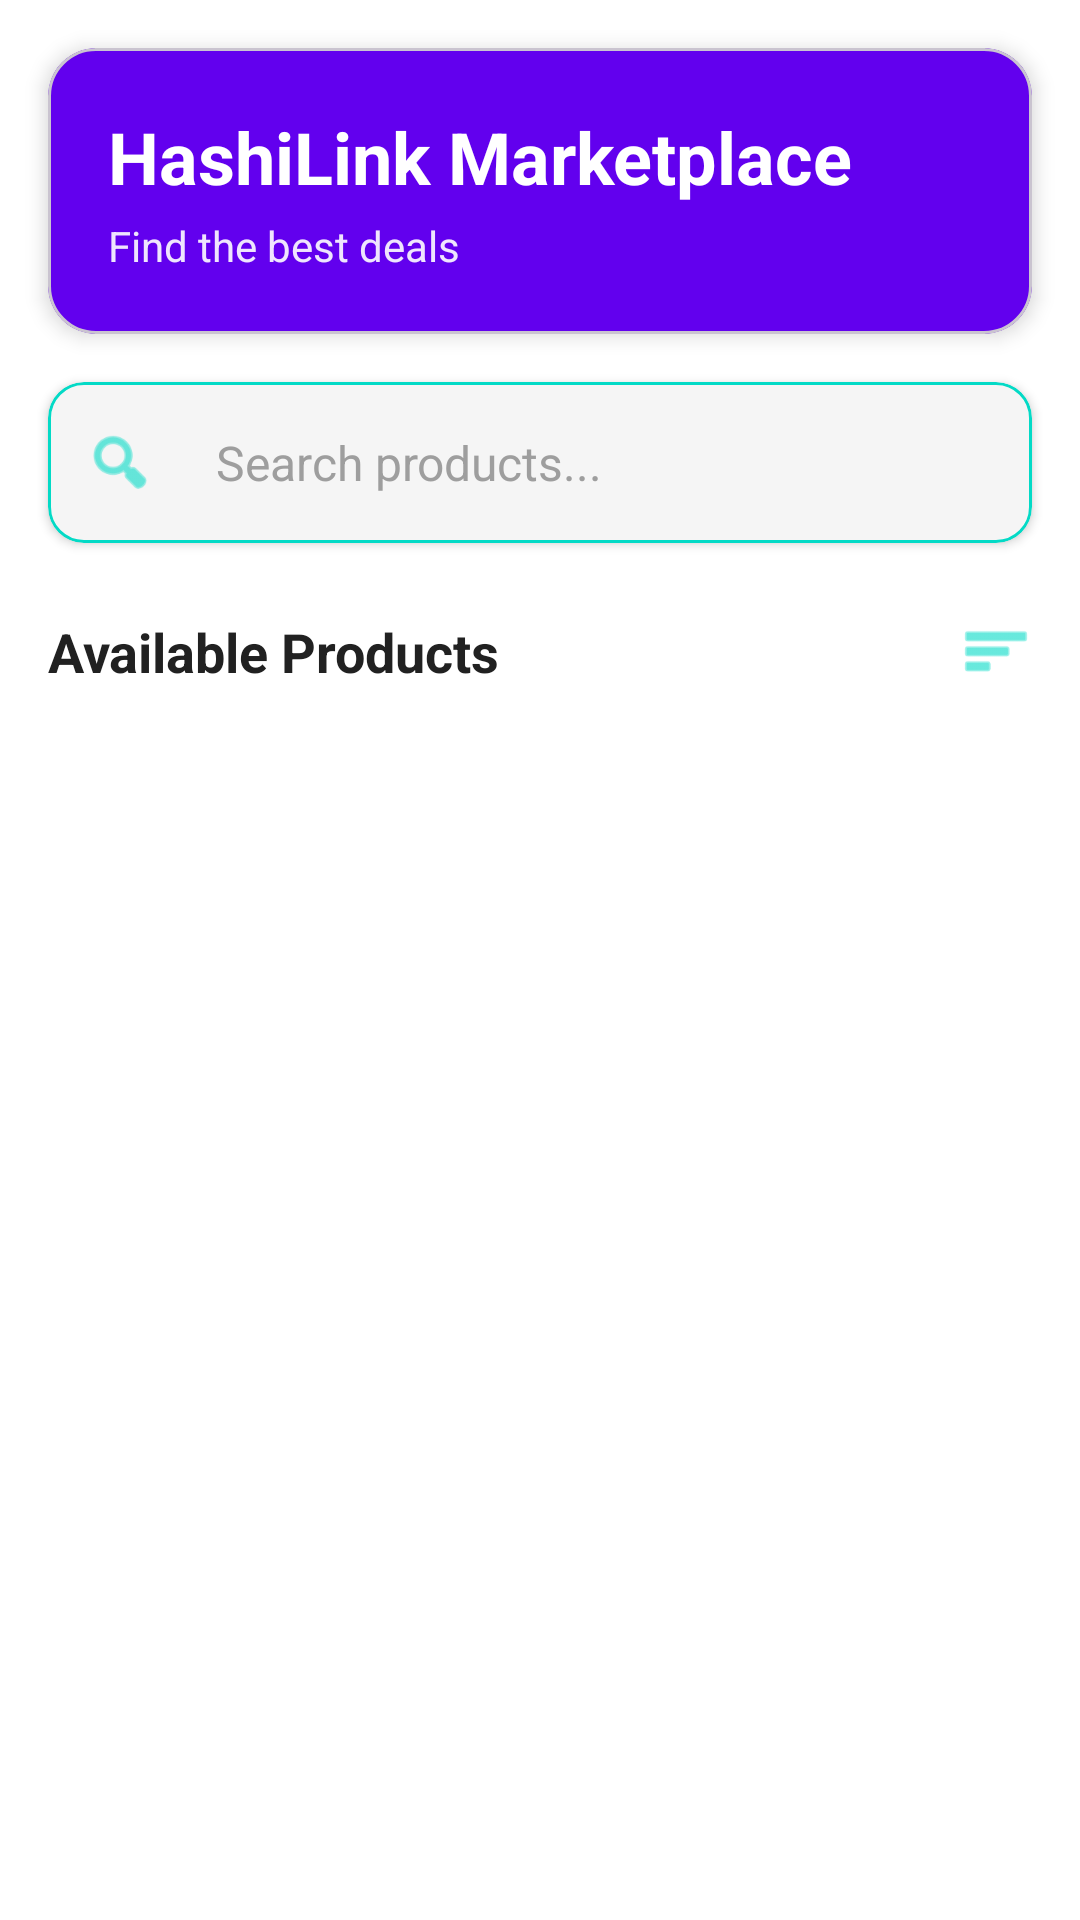

Screen size 1080px x 1920px. Icon name, then its box in pixels as (x1, y1, x2, y2):
sort by size: (965, 631, 1027, 672)
